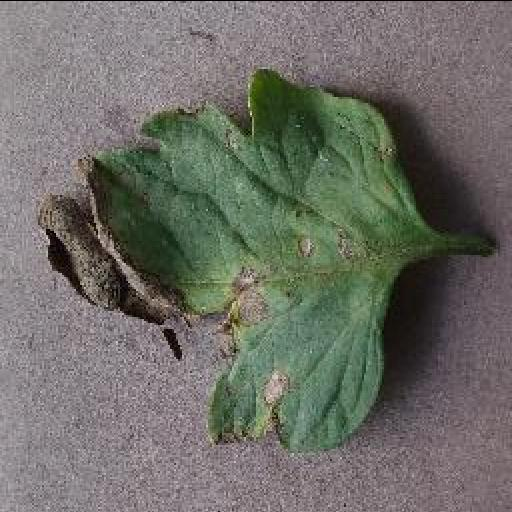disease_tomato: (34, 62, 426, 458)
